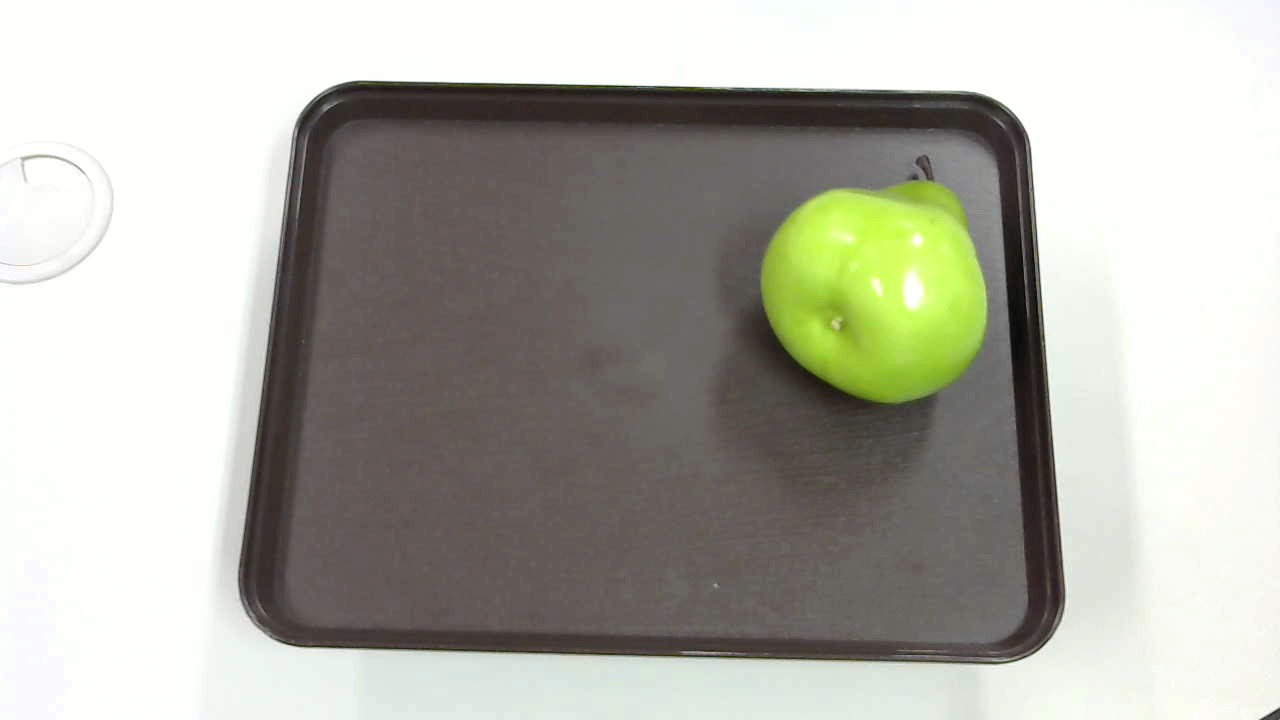green pear: (754, 142, 996, 402)
